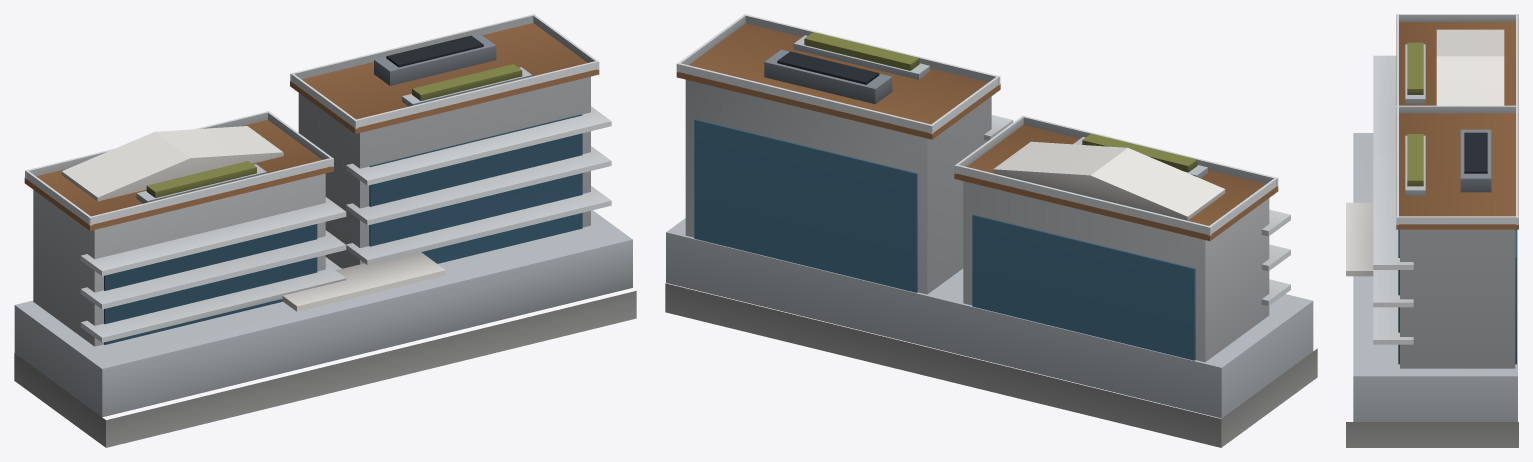
Rendered from residential-trackside-3.glb.
3 views of the same model, side by side, from view 1: azimuth 30°, elevation 25°; view 2: azimuth 150°, elevation 25°; view 3: azimuth 270°, elevation 25° (orthographic). The views are drawn at different scales.
Visible parts, largest first — view 1: residential-trackside-3; view 2: residential-trackside-3; view 3: residential-trackside-3.
Boxes of the visible parts, x1,y1,x2,y2 form: residential-trackside-3: (14,14,636,447); residential-trackside-3: (665,14,1317,447); residential-trackside-3: (1346,14,1518,447).
Bounding box in the file's own units: 60 × 27 × 18.
